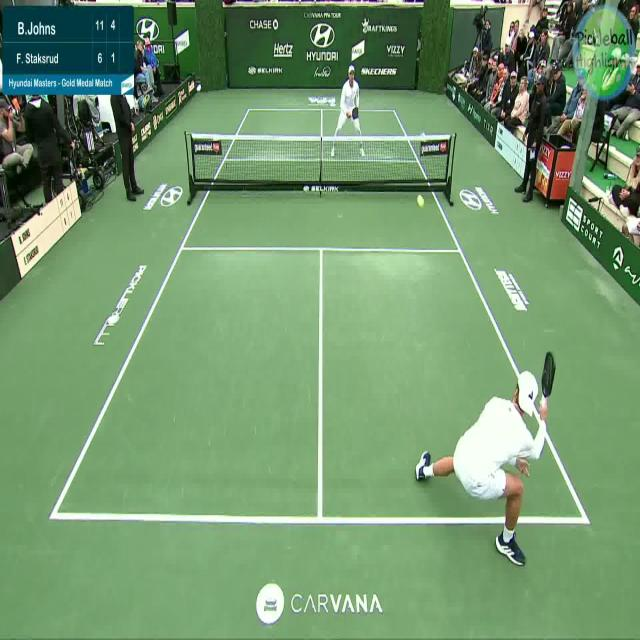ball: (412, 183, 430, 212)
